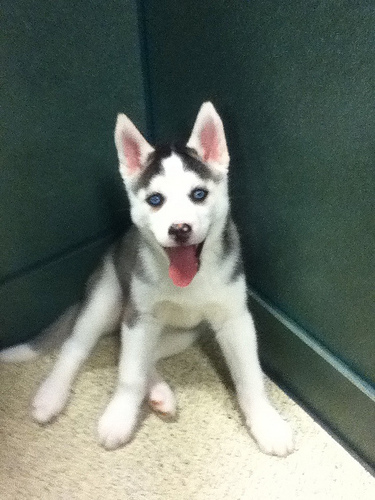dog: (0, 100, 297, 458)
